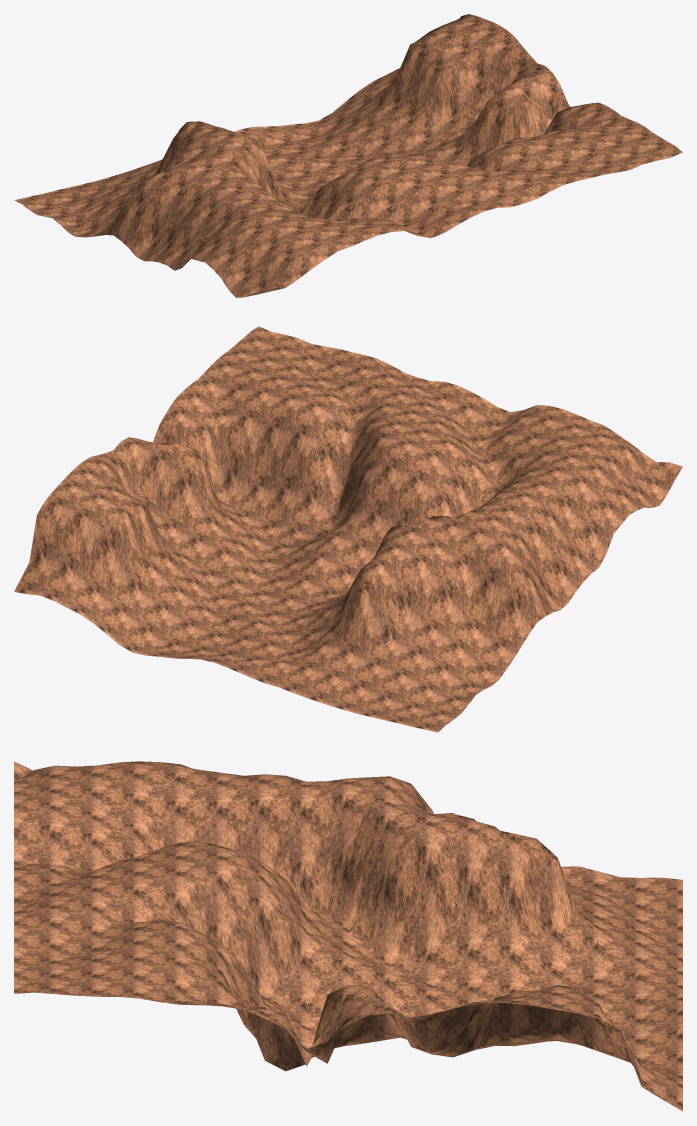
The model's file is terrain_00_22.dae.
3 views of the same model, one above another, from view 1: azimuth 30°, elevation 25°; view 2: azimuth 150°, elevation 25°; view 3: azimuth 270°, elevation 25° (orthographic). The views are drawn at different scales.
Parts seen in each view (by area): view 1: terrain_00_22-node; view 2: terrain_00_22-node; view 3: terrain_00_22-node.
Boxes of the visible parts, bbox=[...] form: terrain_00_22-node: bbox=[14, 14, 682, 297]; terrain_00_22-node: bbox=[14, 326, 682, 732]; terrain_00_22-node: bbox=[14, 761, 682, 1111].
Size of the model in its own units: 128 by 128 by 36.14.
Materials: 1 (1 with a texture image).
